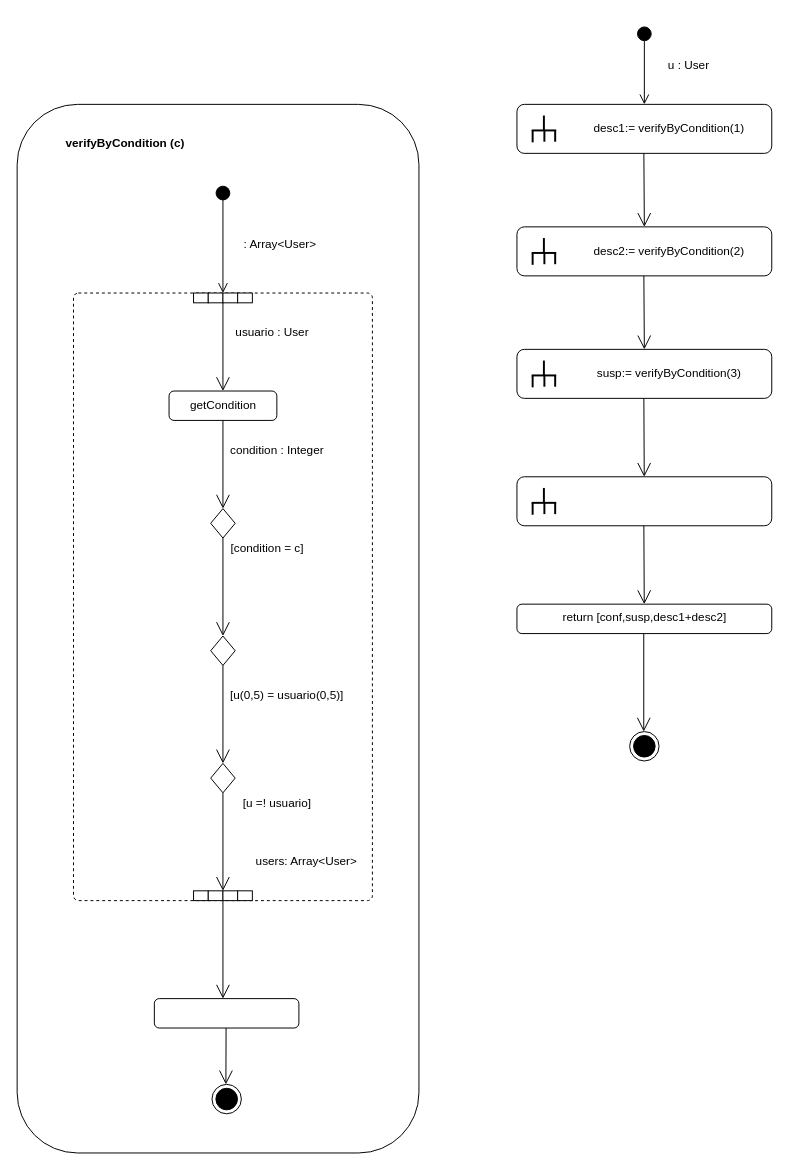
Image size: 789x1170. Some labels were removed from this diagram. Each missing label, with the box of its shape:
conf:= verifyByCondition(4): (516, 476, 772, 526)
return:= len(users): (153, 998, 299, 1028)
